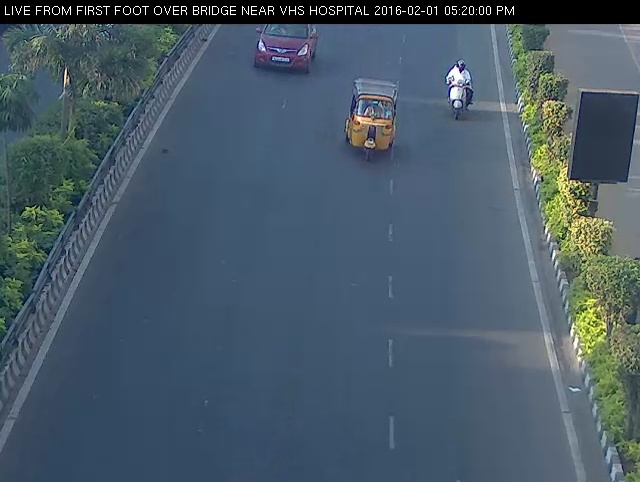Auto: (336, 61, 410, 172)
Car: (251, 11, 322, 83)
Person: (440, 54, 482, 121)
